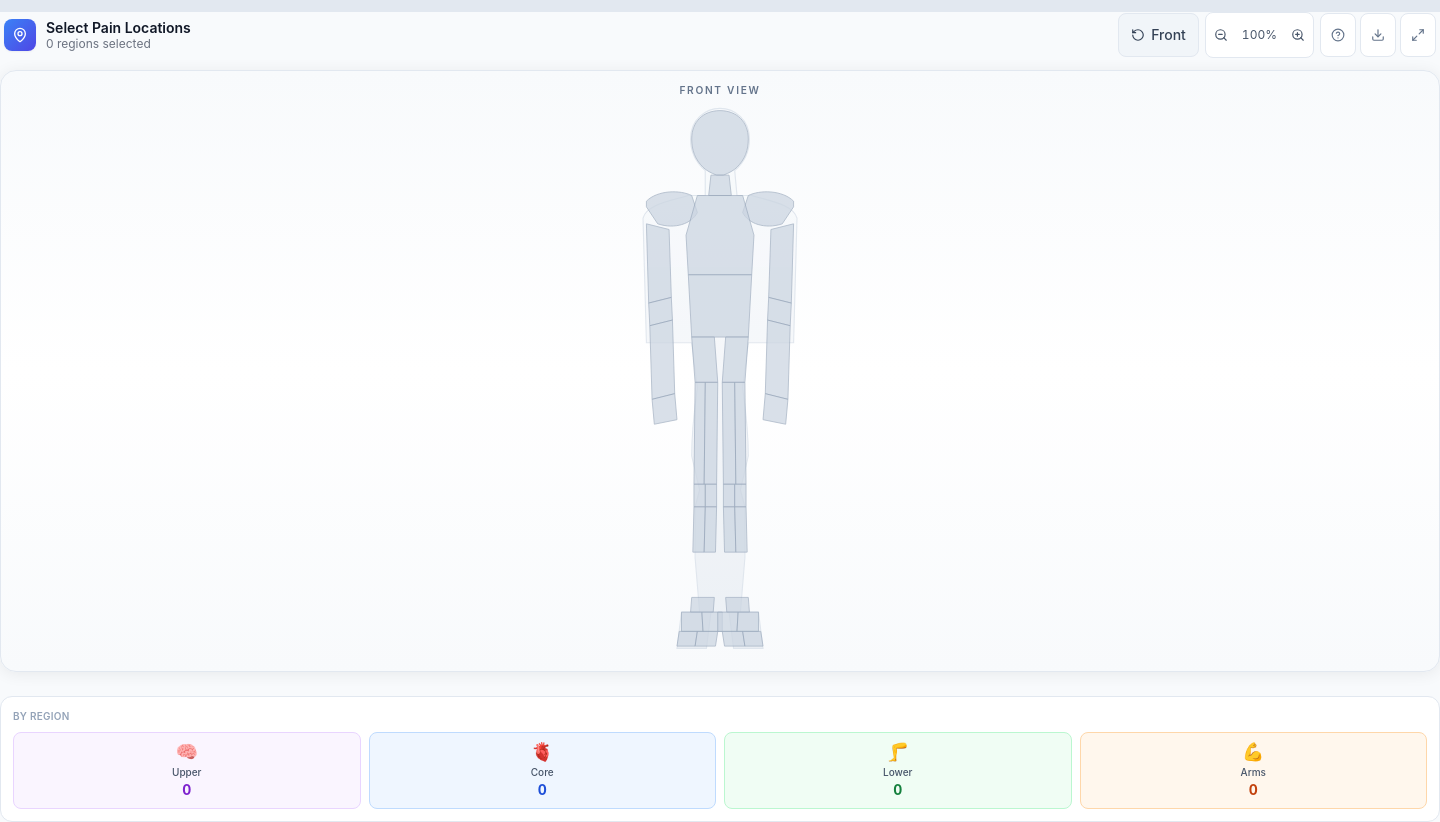
Test: InteractiveBodyMap › zoom controls › increases zoom on zoom in click
Click the button named "Zoom in" at (1298, 35), box [1283,13,1313,57]
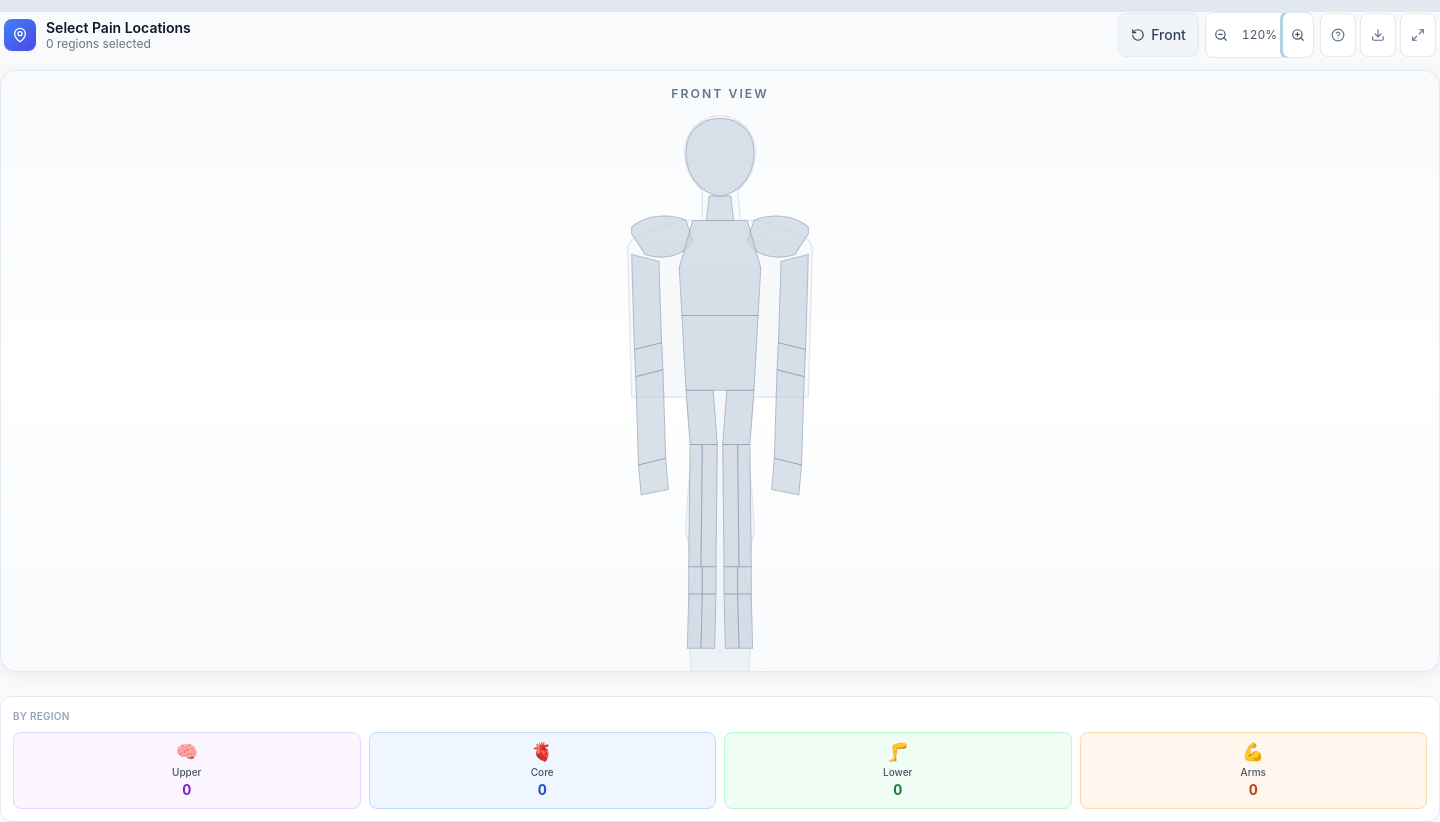
Check: the text "120%" is shown, box [1242,27,1277,42]
